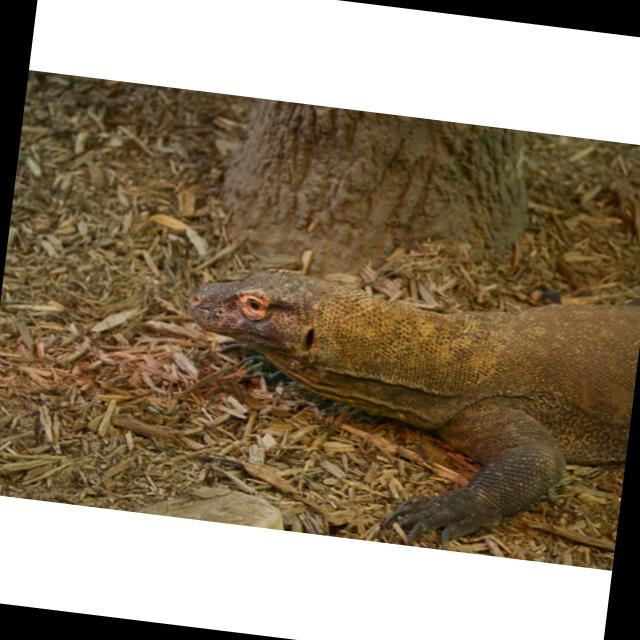KomodoDragon: (162, 245, 640, 566)
